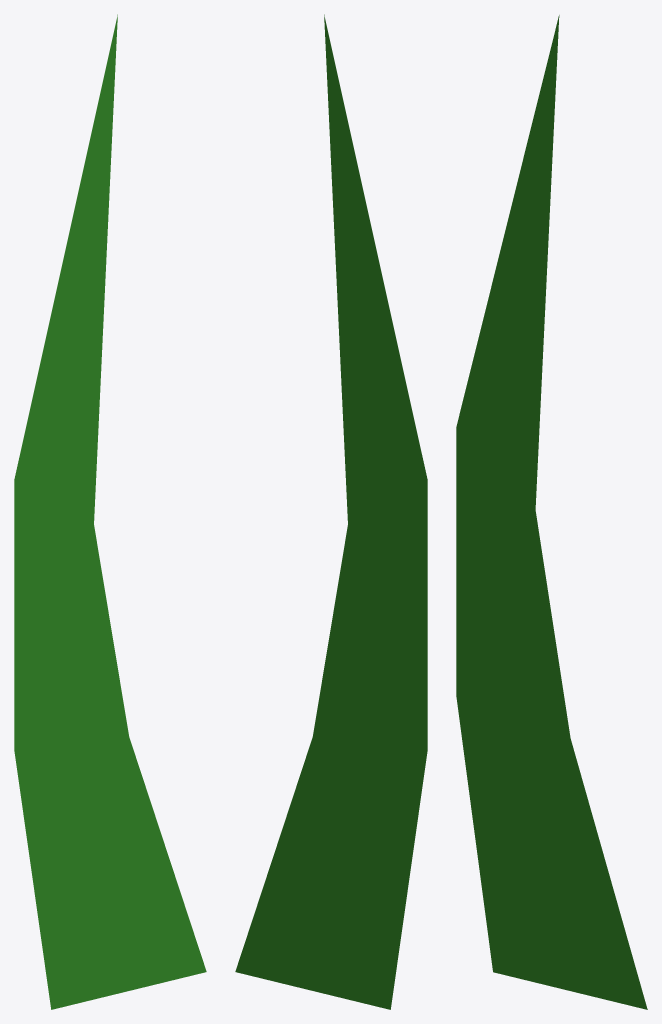
The model's file is short grass.fbx.
The picture shows the model from 3 angles, left to right: view 1: azimuth 30°, elevation 25°; view 2: azimuth 150°, elevation 25°; view 3: azimuth 330°, elevation 25°; orthographic projection.
Visible parts, largest first — view 1: Plane; view 2: Plane; view 3: Plane.
Part boxes in pixels (x1,y1,x2,y2): Plane: (14,14,206,1009); Plane: (235,14,427,1009); Plane: (456,15,647,1009).
Bounding box in the file's own units: 49.77 × 242 × 4.32e-05.
